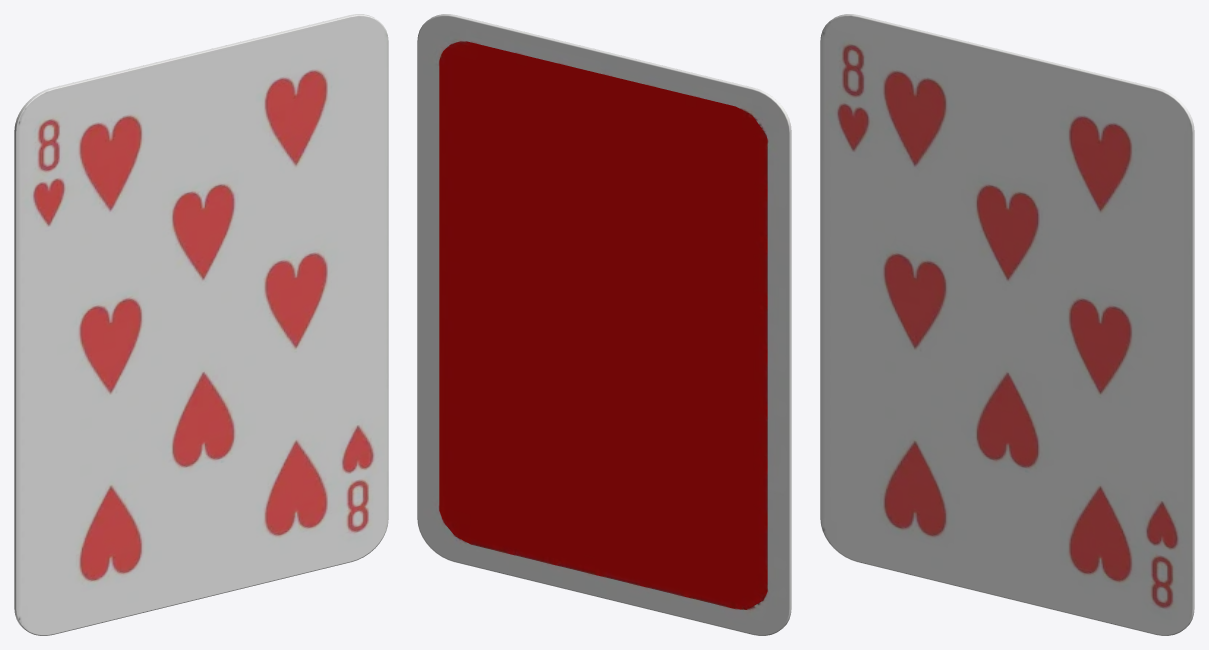
The model's file is hearts_8.glb.
3 renders of one model, left to right at view 1: azimuth 30°, elevation 25°; view 2: azimuth 150°, elevation 25°; view 3: azimuth 330°, elevation 25°, orthographic.
Visible parts, largest first — view 1: defaultMaterial.040; view 2: defaultMaterial.040; view 3: defaultMaterial.040.
Boxes of the visible parts, x1,y1,x2,y2 form: defaultMaterial.040: [14, 14, 388, 635]; defaultMaterial.040: [417, 14, 791, 635]; defaultMaterial.040: [820, 14, 1194, 635].
Bounding box in the file's own units: 0.1408 × 0.1972 × 0.00111.
1 material, 1 textured.
